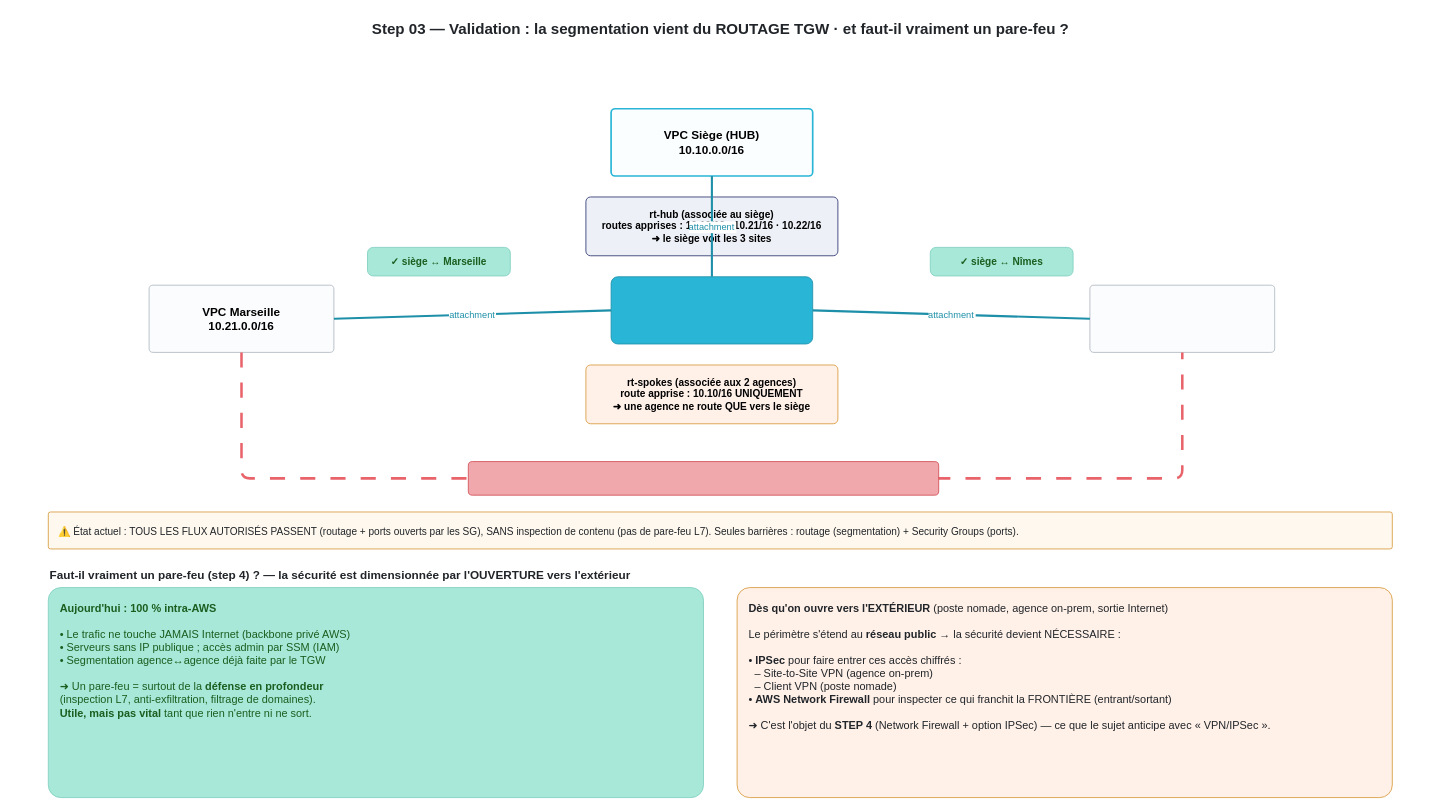
Image size: 1440x812. Some labels were removed from this diagram. The shapes that lost their labels are listed below. From the top down, each one's centre as x and y in pixels, then its label:
the point at 711,310: AWS Transit Gateway tgw-058ec5867…
the point at 1182,318: VPC Nîmes 10.22.0.0/16
the point at 703,478: ✗ Marseille ↛ Nîmes — aucune route dans rt-spokes (segmentation par le routage)
